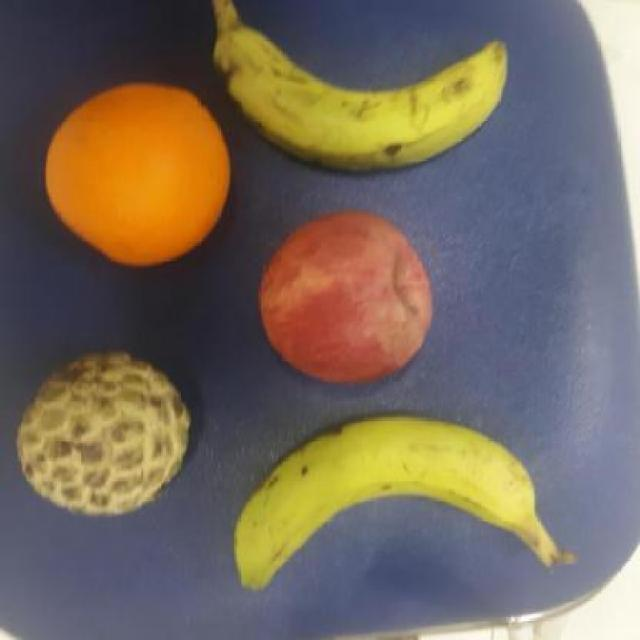apple: (254, 209, 441, 389)
banana: (232, 413, 570, 599), (211, 19, 512, 179)
oren: (46, 78, 237, 271)
sugar apple: (14, 350, 200, 521)
